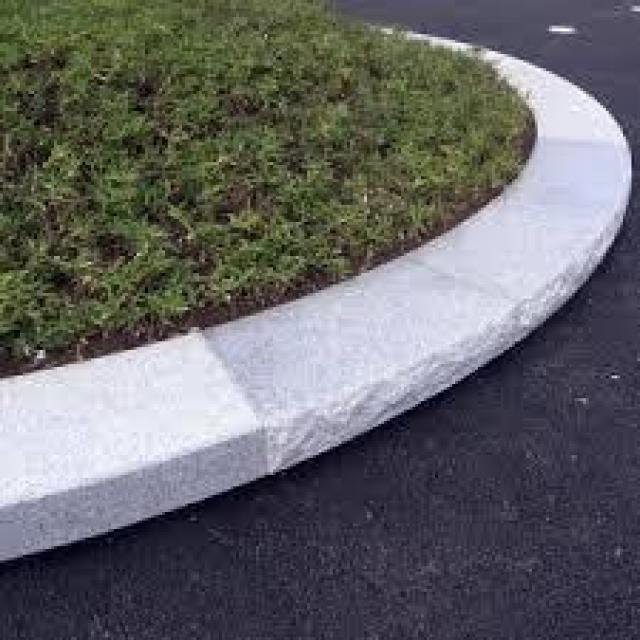bump: (0, 230, 450, 567)
